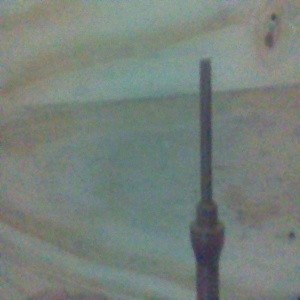obeng: (189, 59, 226, 300)
